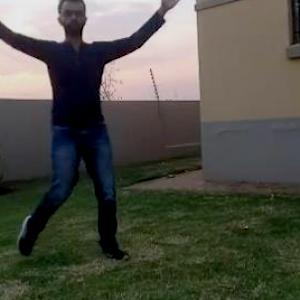takeoff: (1, 0, 179, 271)
